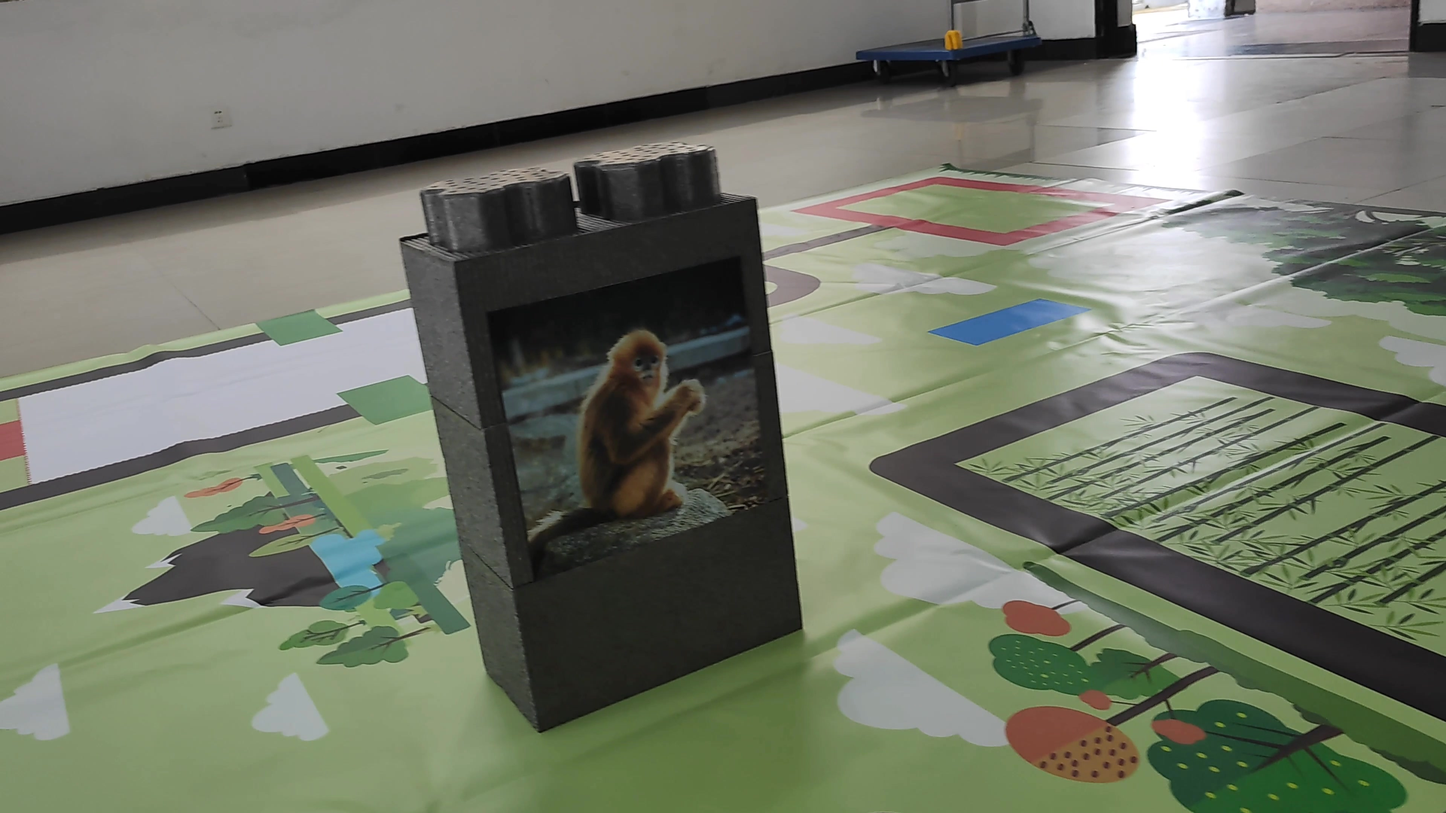monkey: (508, 315, 738, 547)
